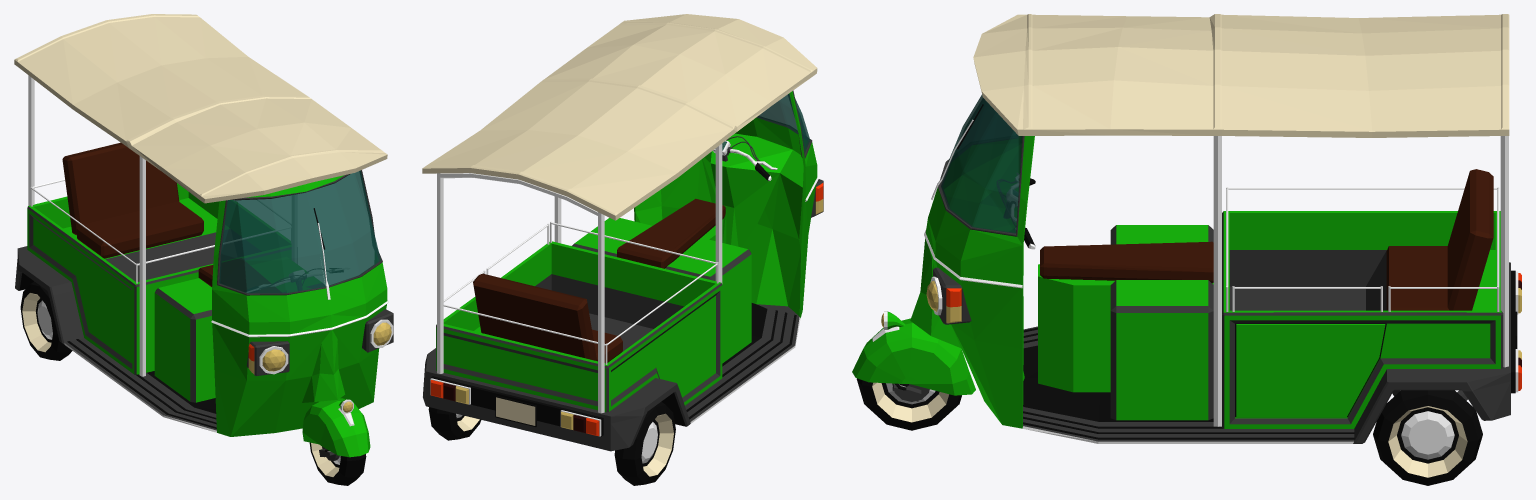
Rendered from 3Wheeler_03.FBX.
3 renders of one model, left to right at view 1: azimuth 30°, elevation 25°; view 2: azimuth 150°, elevation 25°; view 3: azimuth 270°, elevation 25°, orthographic. The views are drawn at different scales.
Visible parts, largest first — view 1: 3Wheeler_03, roof, backSeat, frontSeat, mudguard, wheel_b_r, lights, wheel_f, headLights; view 2: 3Wheeler_03, roof, frontSeat, backSeat, wheel_b_r, wheel_b_l, licensePlate_b, handlebars, lights, backupLights; view 3: 3Wheeler_03, roof, frontSeat, backSeat, wheel_b_l, mudguard, wheel_f, lights.
Boxes of the visible parts, left/top/right/bottom form: 3Wheeler_03: left=15, top=170, right=388, bottom=436; roof: left=14, top=14, right=387, bottom=376; backSeat: left=62, top=142, right=203, bottom=258; frontSeat: left=154, top=257, right=324, bottom=402; mudguard: left=302, top=398, right=370, bottom=457; wheel_b_r: left=20, top=281, right=72, bottom=360; lights: left=246, top=309, right=393, bottom=375; wheel_f: left=309, top=442, right=366, bottom=485; headLights: left=248, top=322, right=391, bottom=374; 3Wheeler_03: left=423, top=90, right=818, bottom=451; roof: left=422, top=14, right=817, bottom=413; frontSeat: left=572, top=198, right=751, bottom=363; backSeat: left=473, top=273, right=622, bottom=363; wheel_b_r: left=614, top=401, right=675, bottom=485; wheel_b_l: left=428, top=407, right=481, bottom=440; licensePlate_b: left=495, top=395, right=536, bottom=426; handlebars: left=722, top=136, right=777, bottom=181; lights: left=430, top=179, right=823, bottom=436; backupLights: left=455, top=386, right=573, bottom=429; 3Wheeler_03: left=910, top=94, right=1515, bottom=443; roof: left=973, top=14, right=1509, bottom=426; frontSeat: left=1038, top=225, right=1213, bottom=420; backSeat: left=1386, top=169, right=1493, bottom=310; wheel_b_l: left=1373, top=390, right=1482, bottom=485; mudguard: left=852, top=318, right=975, bottom=395; wheel_f: left=856, top=378, right=961, bottom=430; lights: left=930, top=267, right=1518, bottom=392.
Bounding box in the file's own units: 11.72 × 16.1 × 25.59.
